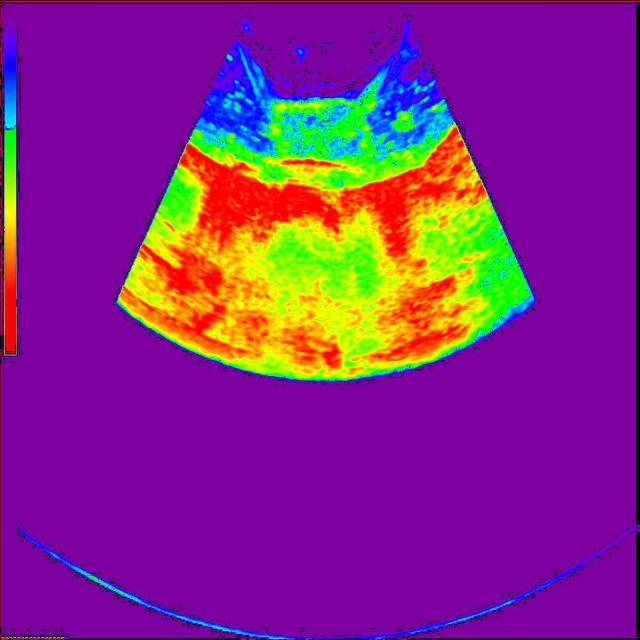chicken muscle pre: (269, 98, 376, 164)
